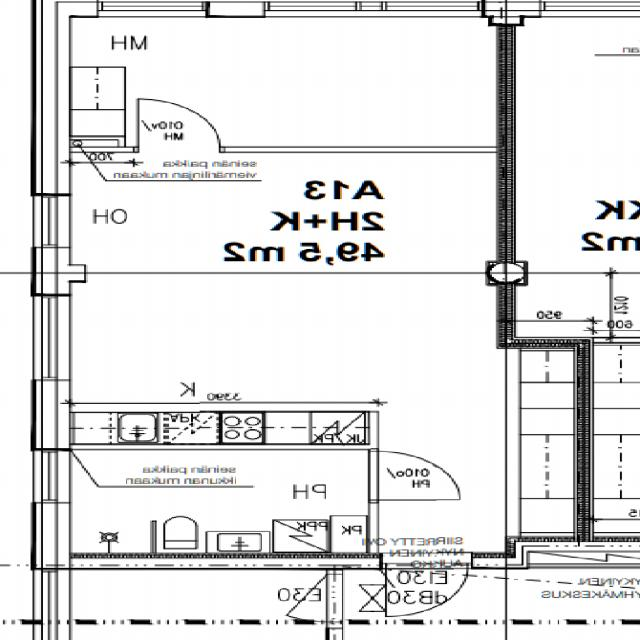door: (390, 554, 467, 614), (369, 452, 461, 500), (140, 100, 220, 152)
